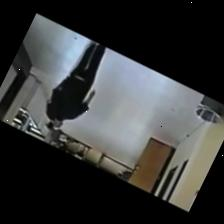person: (54, 41, 106, 128), (46, 79, 65, 129)
